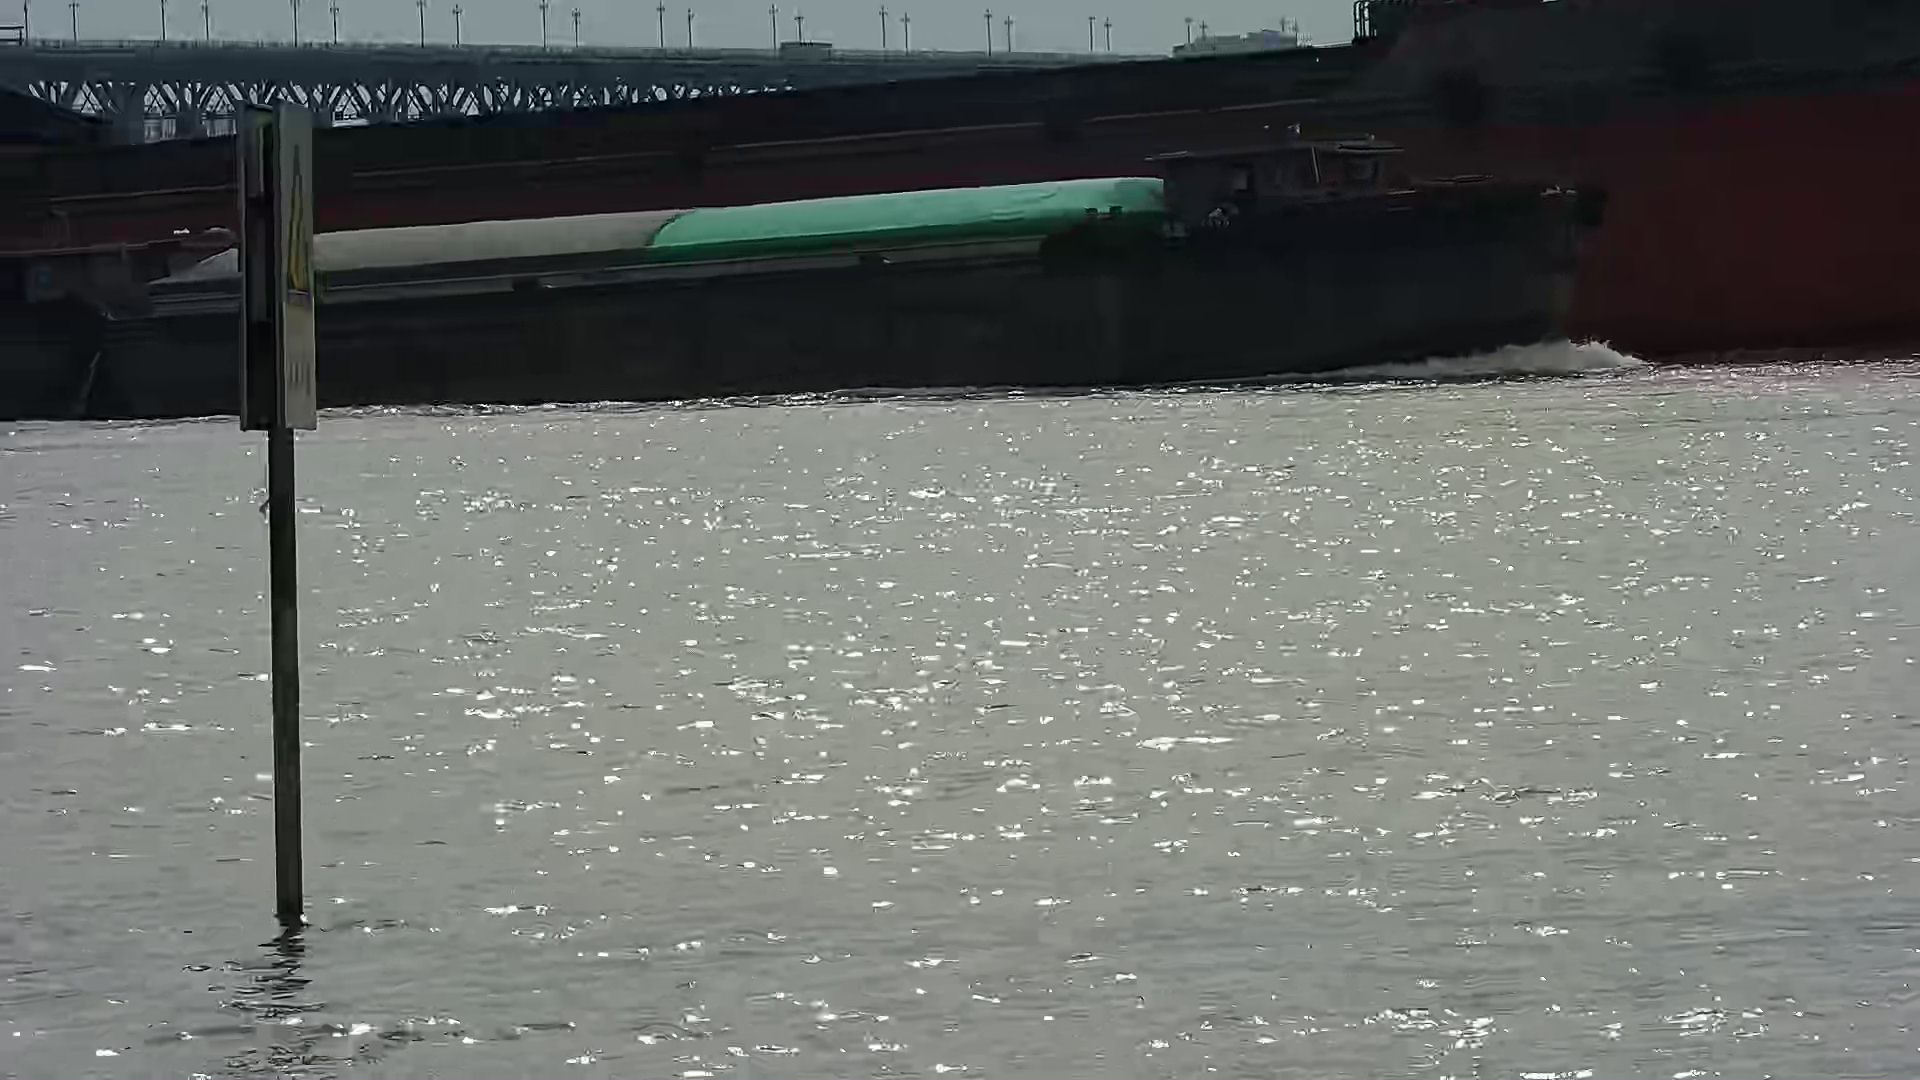bridge: (1, 3, 1162, 135)
mast: (243, 102, 316, 922)
ship: (3, 4, 1920, 411), (3, 142, 1592, 419)
